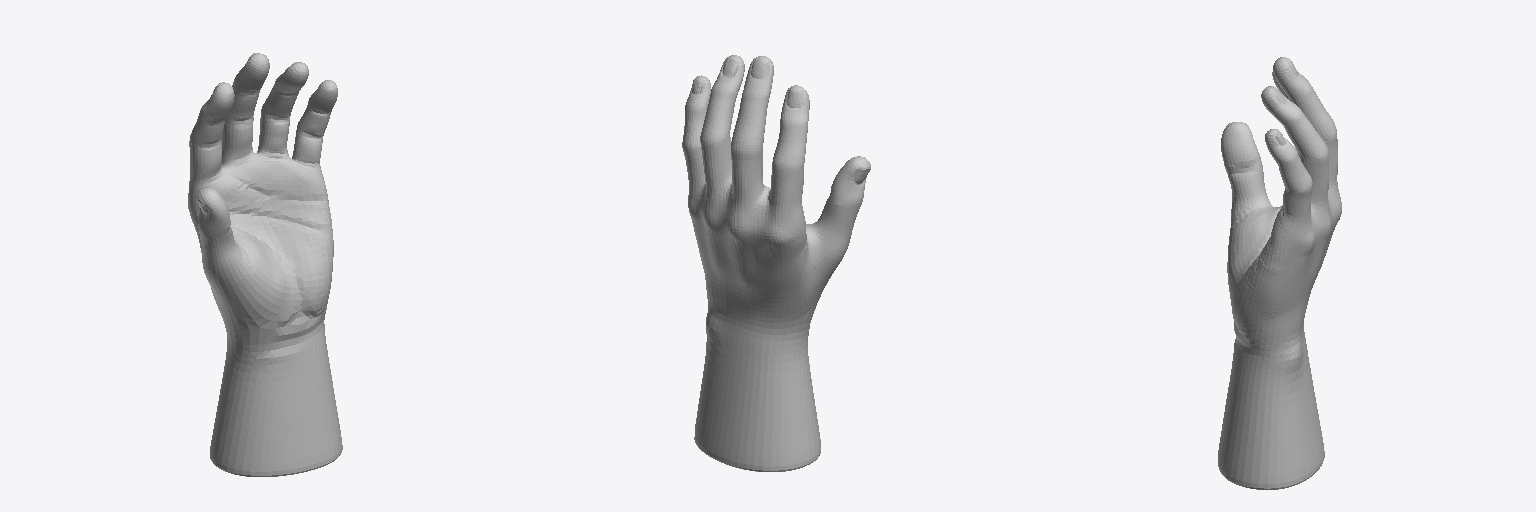
Rendered from mannequin-hand-001.obj.
3 views of the same model, side by side, from view 1: azimuth 30°, elevation 25°; view 2: azimuth 150°, elevation 25°; view 3: azimuth 270°, elevation 25° (orthographic).
Parts seen in each view (by area): view 1: hand; view 2: hand; view 3: hand.
Part boxes in pixels (left/top/right/bottom): hand: left=188, top=53, right=342, bottom=476; hand: left=682, top=55, right=870, bottom=471; hand: left=1218, top=57, right=1341, bottom=489.
Bounding box in the file's own units: 0.0995 × 0.24 × 0.0679.